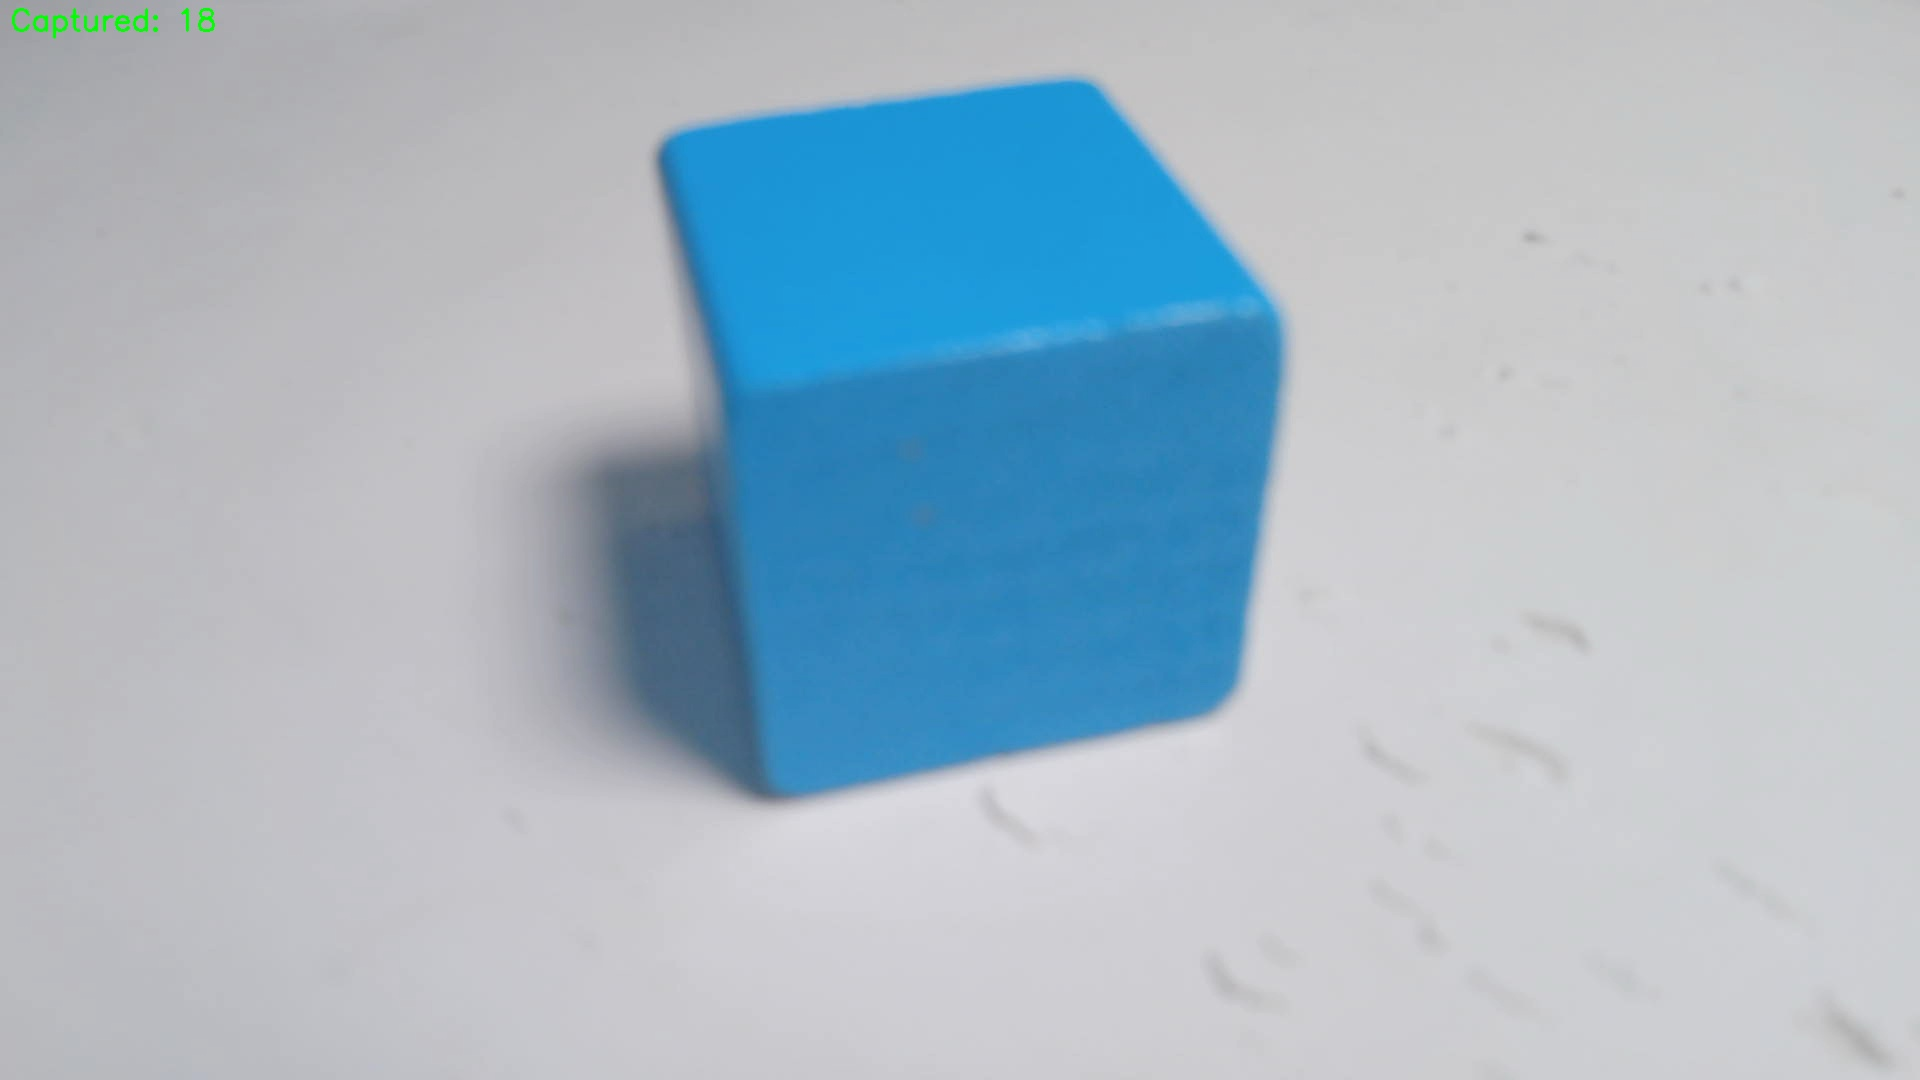blue: (655, 79, 1284, 803)
